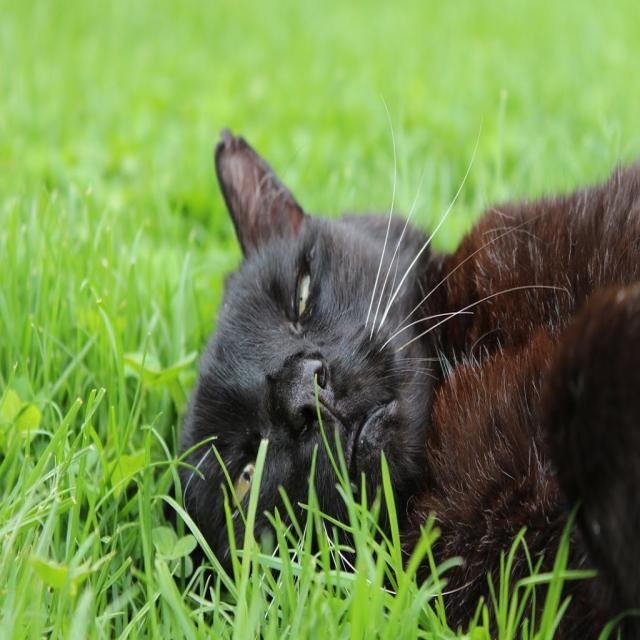Cat: (166, 85, 639, 638)
